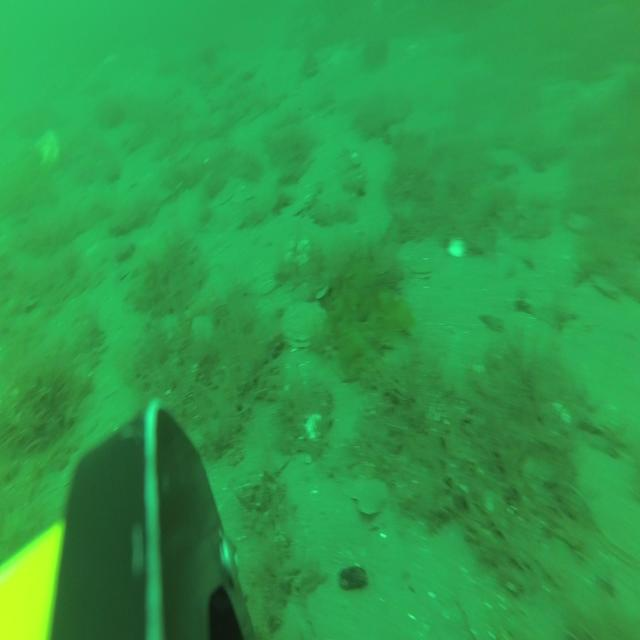scallop: (591, 492, 640, 569), (280, 299, 328, 347), (358, 477, 388, 516), (35, 129, 59, 170), (412, 255, 434, 280)
